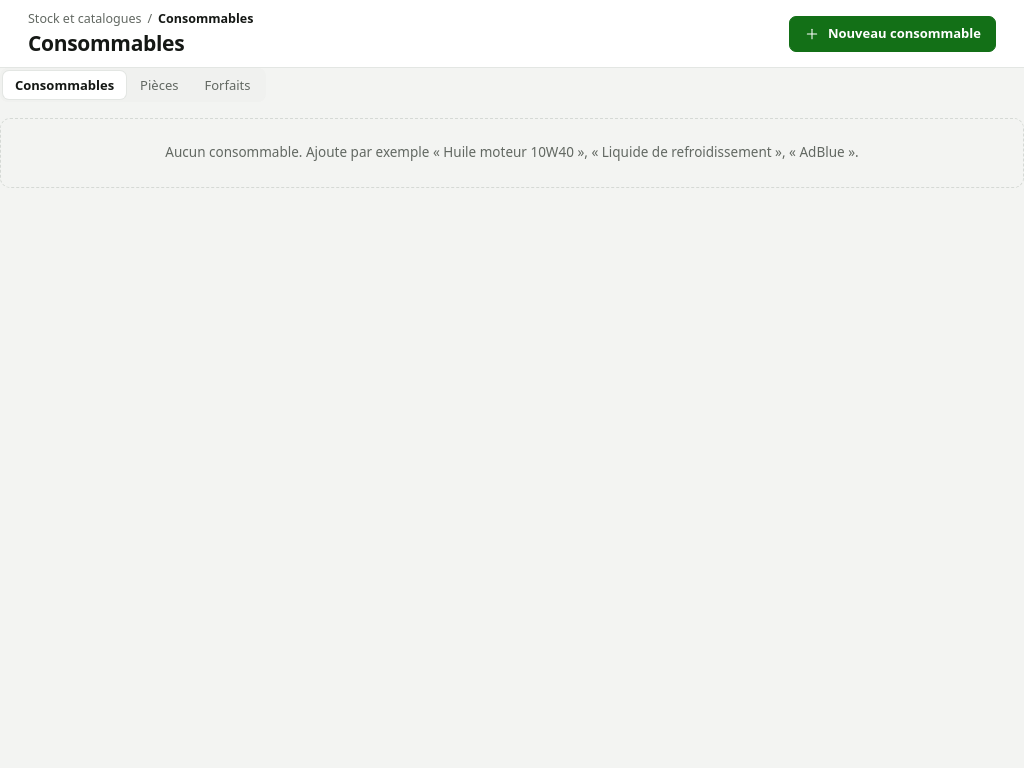
Scenario: consommables › refuse un prix mal saisi
This screenshot has width=1024, height=768.
Click the button "Nouveau consommable" at (892, 34), box [789,16,996,52]
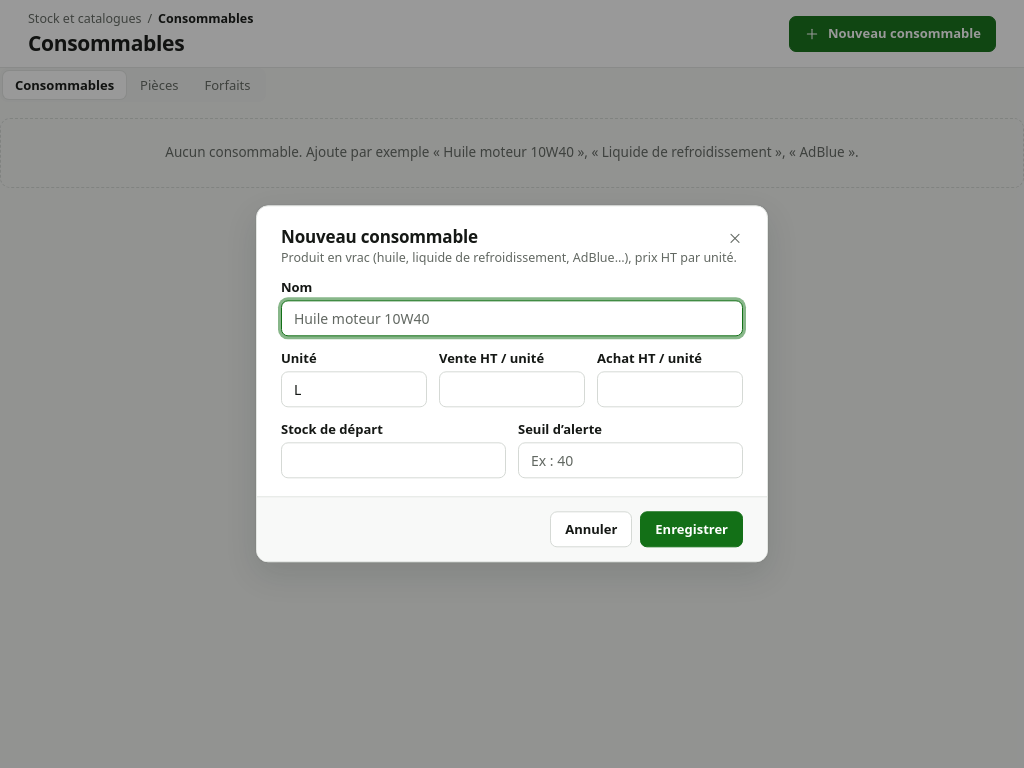
Type "AdBlue" into the field labelled "Nom" at (512, 319), box [281,301,743,337]
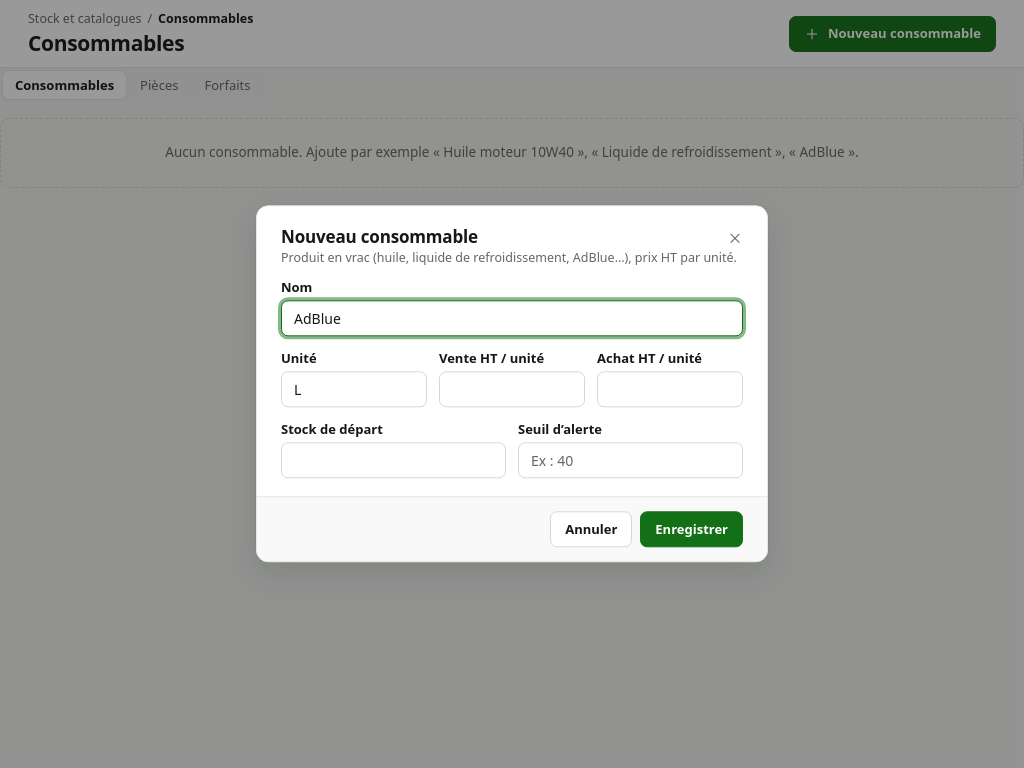
Type "douze" into the field labelled "Vente HT / unité" at (512, 390), box [439,372,585,408]
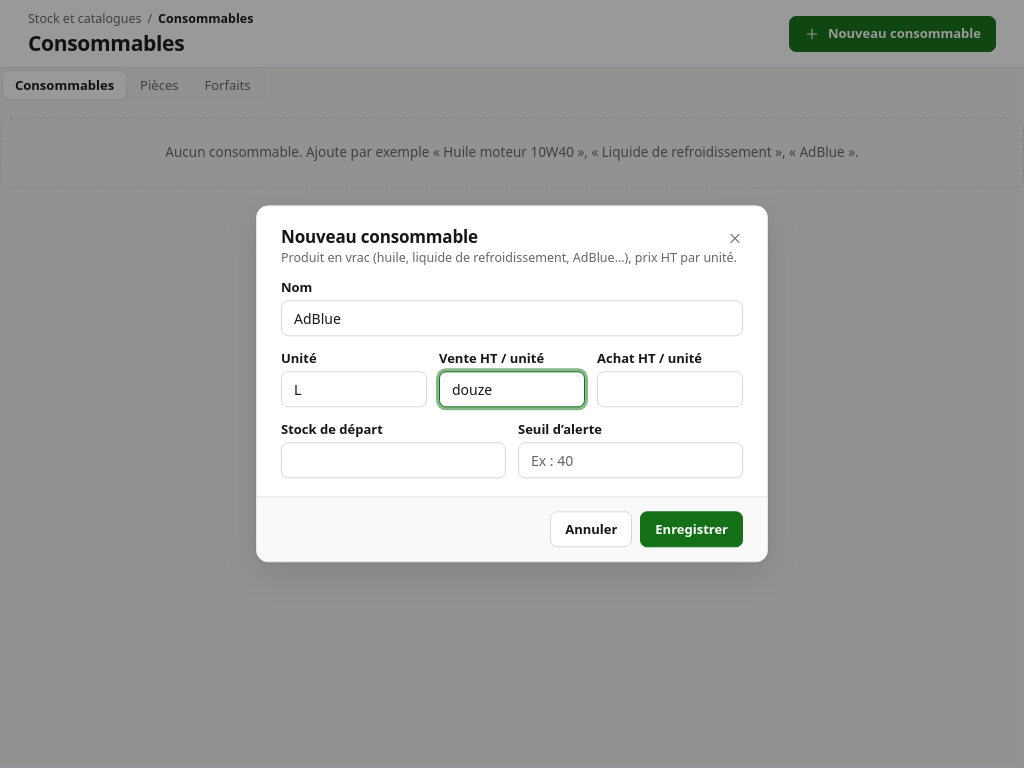
Click the button "Enregistrer" at (692, 530), box [640,512,743,548]
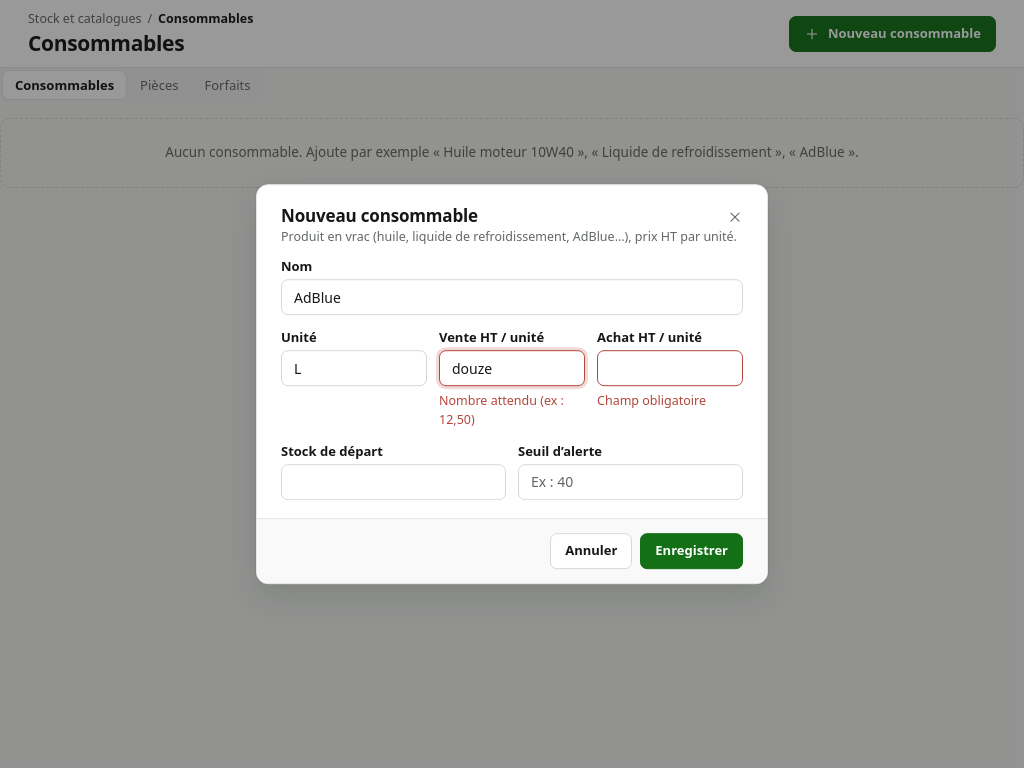
Result: the text "Nombre attendu (ex : 12,50)" is shown at [439,393,585,429]
